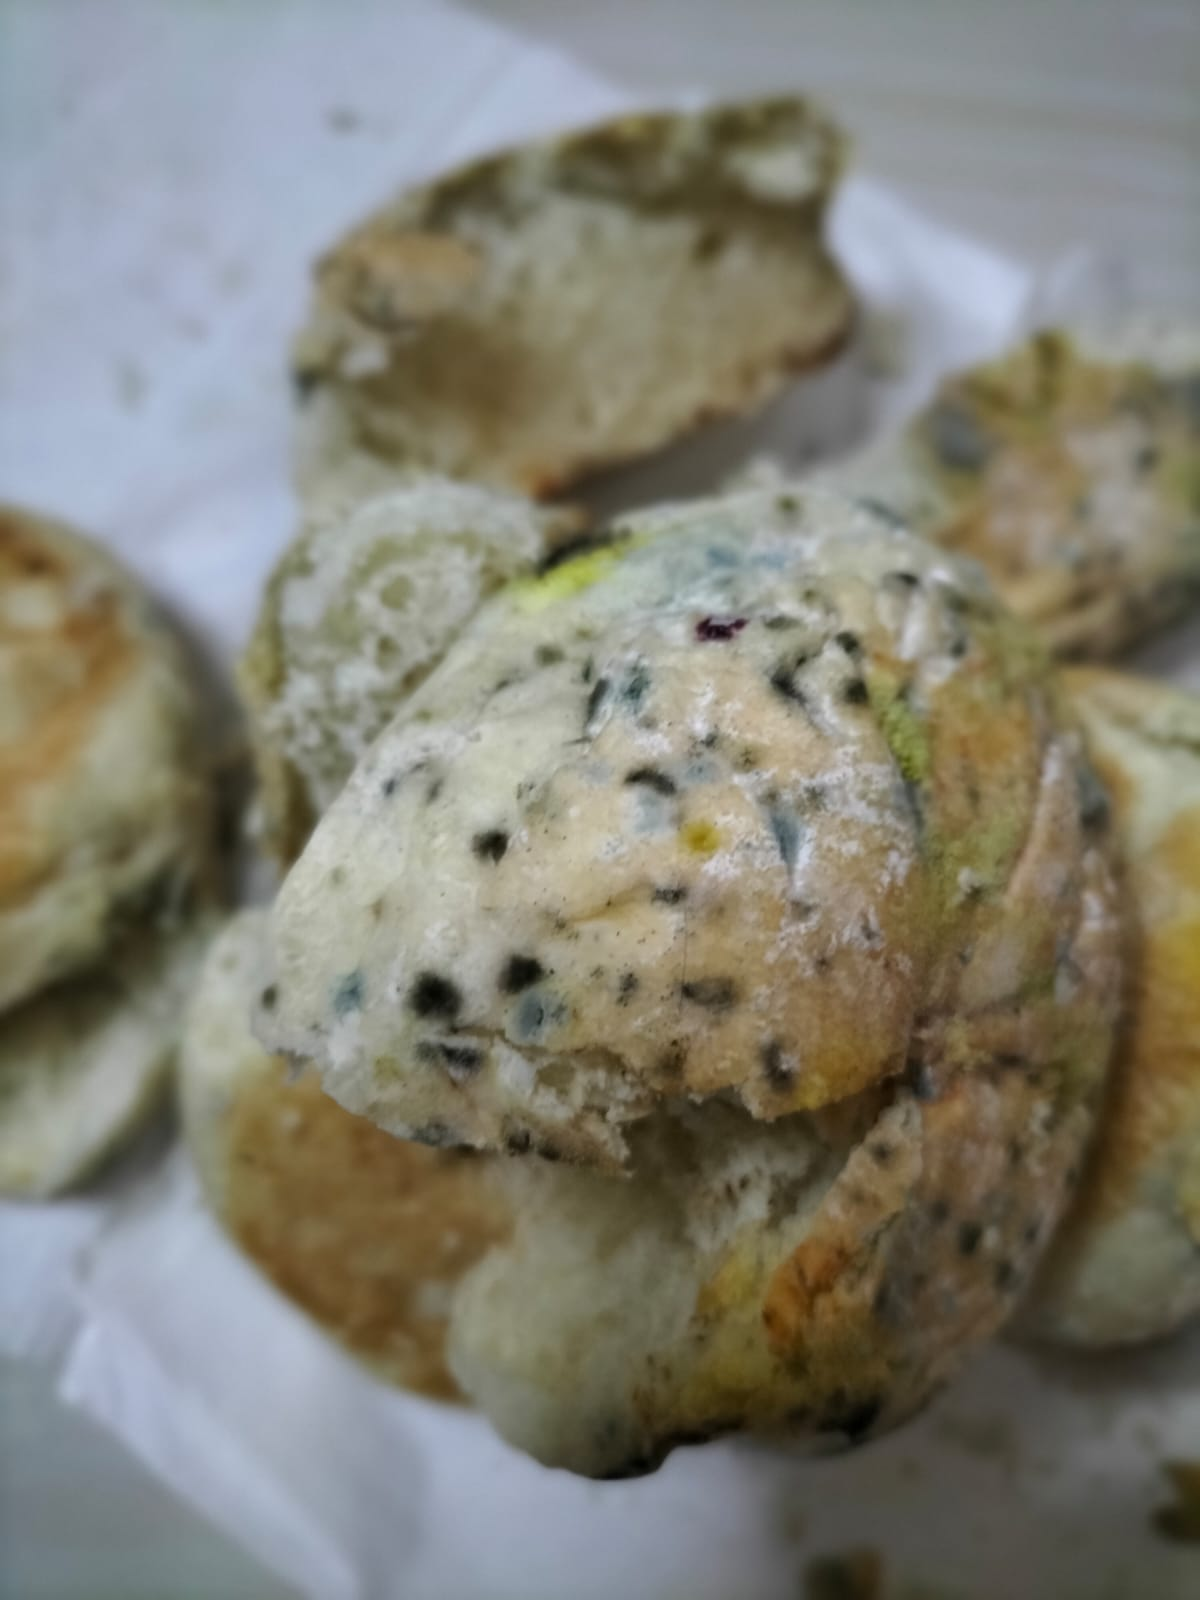mold_bread: (406, 1112, 604, 1178), (392, 968, 484, 1090), (760, 622, 880, 716), (955, 1187, 1053, 1296), (570, 645, 648, 755), (606, 762, 689, 844), (881, 554, 979, 616), (753, 789, 807, 894), (881, 741, 938, 842), (495, 949, 557, 1037), (376, 748, 449, 813), (753, 1032, 804, 1104), (671, 971, 742, 1022), (701, 719, 759, 769), (689, 603, 753, 648), (463, 819, 516, 871), (584, 963, 640, 1009), (325, 969, 372, 1019), (246, 980, 284, 1015)
